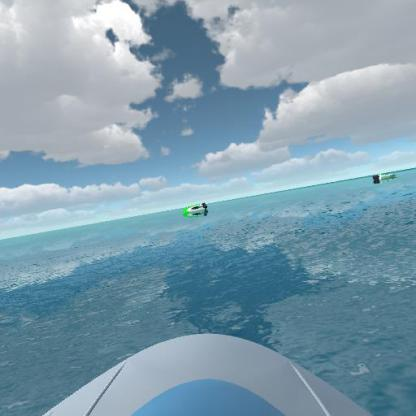usv0: (178, 200, 211, 218), (370, 169, 400, 184)
